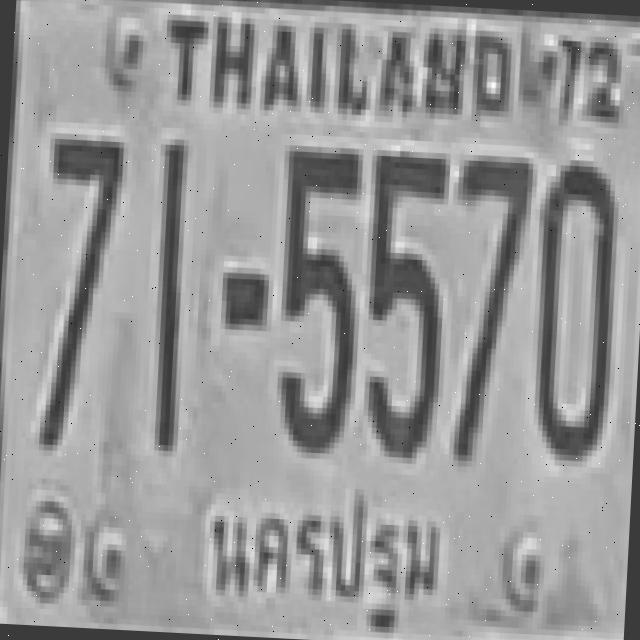0: (530, 159, 618, 457)
5: (276, 145, 358, 319), (364, 150, 446, 323)
7: (450, 149, 530, 345), (44, 133, 122, 306)
NakhonPathom: (189, 474, 452, 638)
